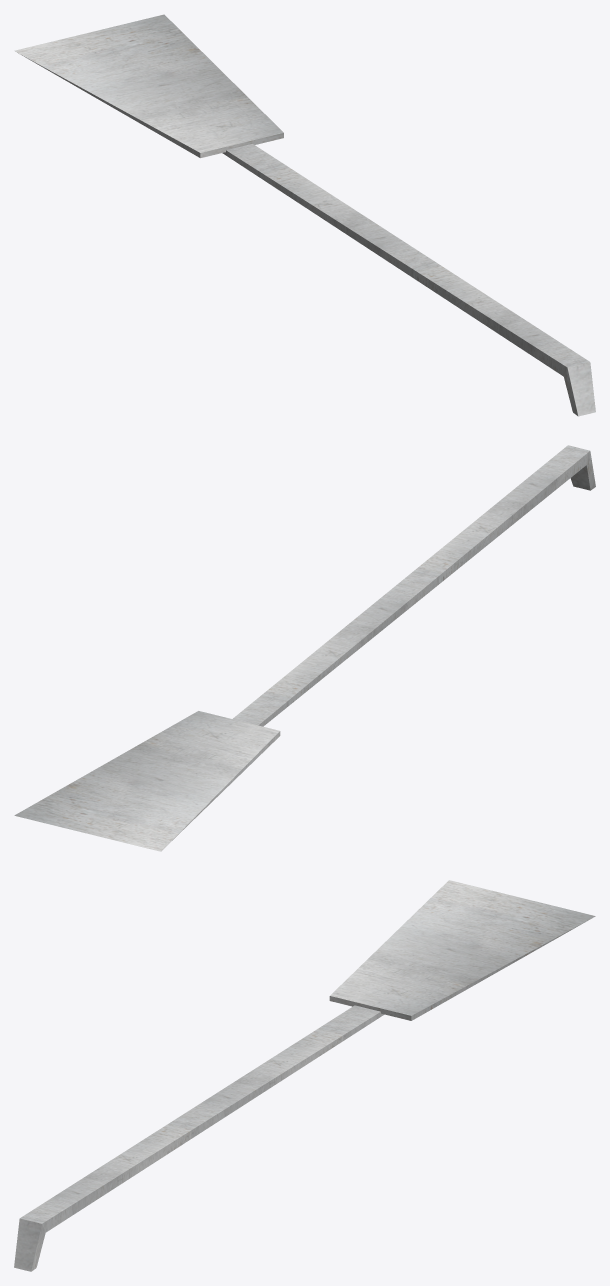
File: M_Home_Garden_Bestek05.fbx
3 renders of one model, top to bottom at view 1: azimuth 30°, elevation 25°; view 2: azimuth 150°, elevation 25°; view 3: azimuth 330°, elevation 25°, orthographic.
Visible parts, largest first — view 1: M_Home_Garden_Bestek05; view 2: M_Home_Garden_Bestek05; view 3: M_Home_Garden_Bestek05.
Boxes of the visible parts, left/top/right/bottom form: M_Home_Garden_Bestek05: left=14, top=14, right=595, bottom=416; M_Home_Garden_Bestek05: left=14, top=445, right=595, bottom=851; M_Home_Garden_Bestek05: left=14, top=880, right=595, bottom=1271.
Size of the model in its own units: 11.29 by 3.13 by 65.7.
